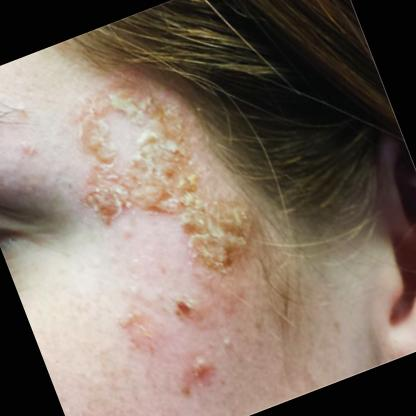Ringworm: (31, 38, 224, 250)
